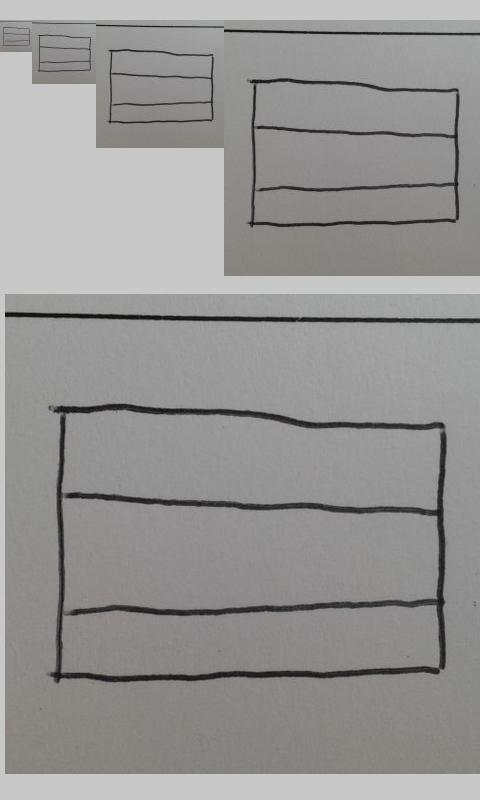list_view: (50, 400, 451, 686), (249, 77, 461, 229), (108, 48, 214, 124), (38, 34, 92, 73), (2, 26, 31, 47)
